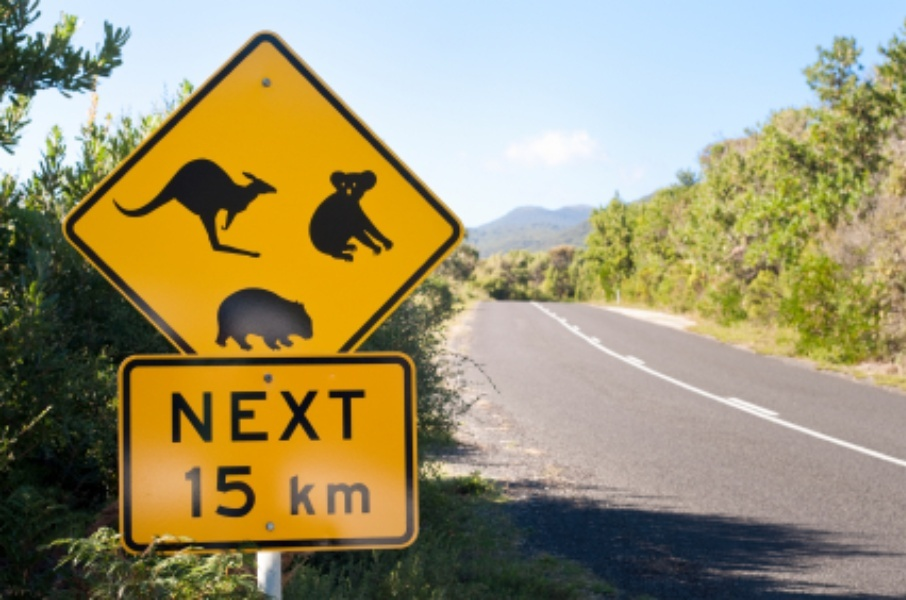text: (177, 388, 192, 445), (193, 388, 208, 445), (209, 388, 224, 445), (225, 388, 240, 445), (241, 388, 256, 445), (257, 388, 272, 445), (273, 388, 288, 445), (289, 388, 304, 445), (305, 388, 320, 445), (321, 388, 336, 445), (337, 388, 352, 445), (193, 464, 208, 520), (209, 464, 224, 520), (225, 464, 240, 520), (241, 464, 256, 520), (353, 388, 366, 445), (305, 475, 320, 518), (321, 475, 336, 518), (337, 475, 352, 518), (353, 475, 368, 518), (290, 475, 304, 518), (183, 464, 192, 520), (171, 388, 176, 445), (369, 475, 371, 518), (257, 464, 258, 520)
